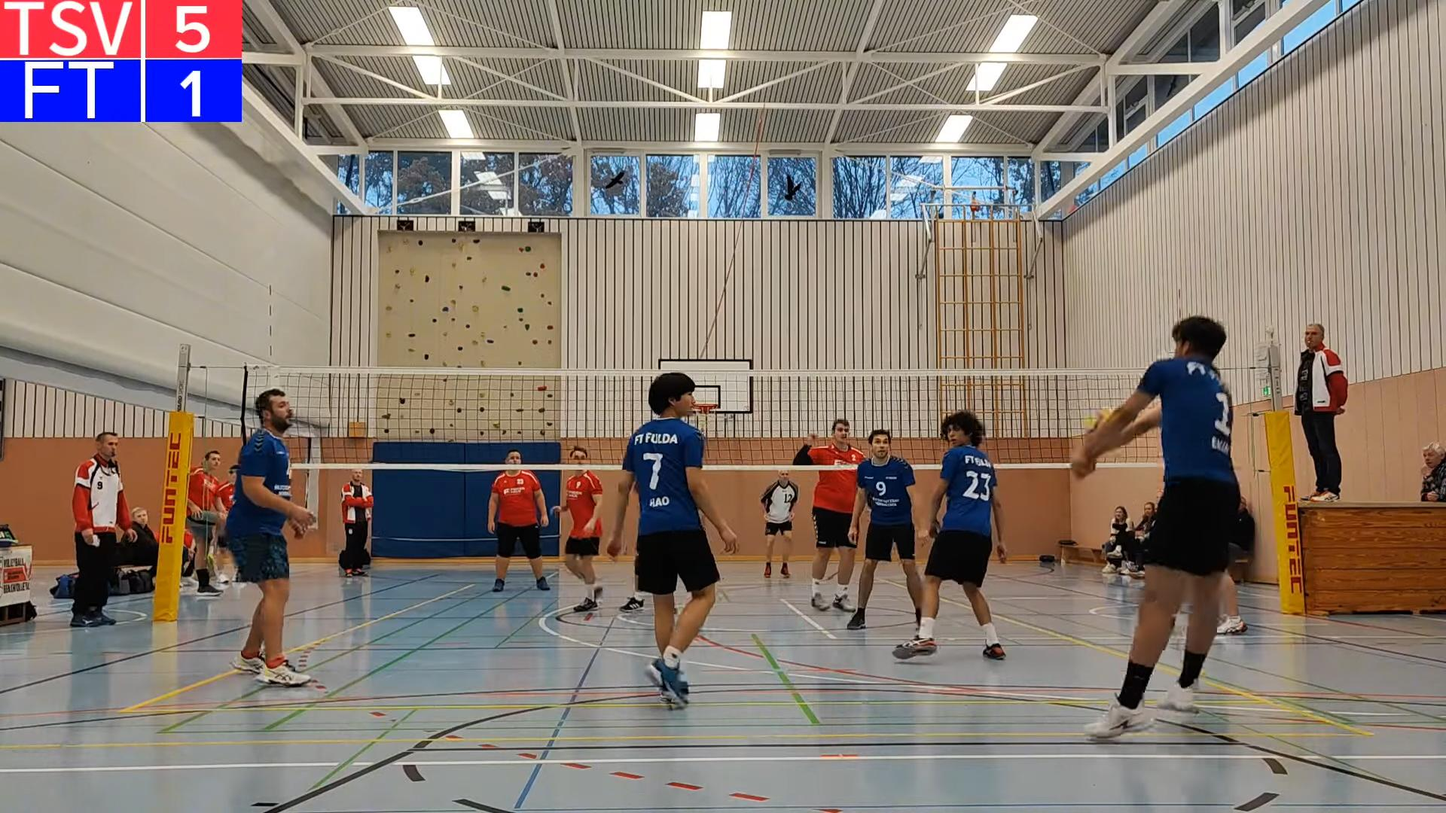Player: (1072, 316, 1239, 738), (607, 373, 736, 705), (894, 411, 1006, 659), (227, 388, 316, 686), (847, 429, 921, 629), (794, 418, 864, 611), (488, 449, 549, 592), (564, 446, 602, 611), (761, 470, 798, 578), (619, 574, 646, 614)
Receive: (1070, 300, 1263, 745)
ball: (1084, 411, 1110, 434)
